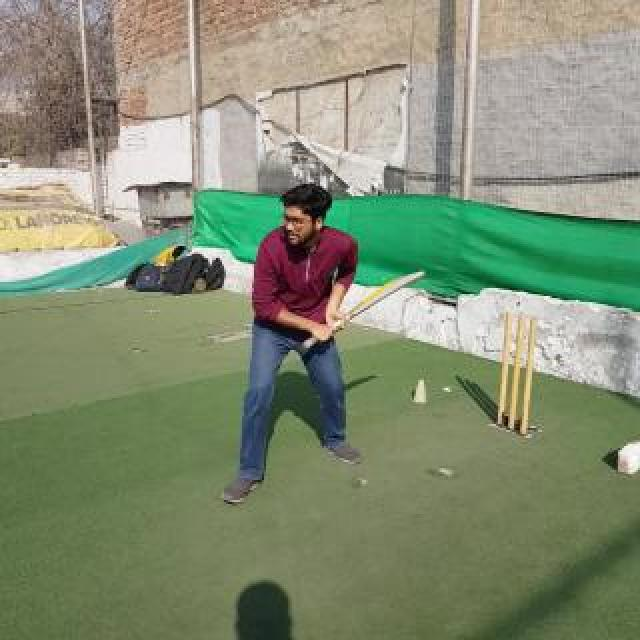bat: (302, 270, 426, 350)
